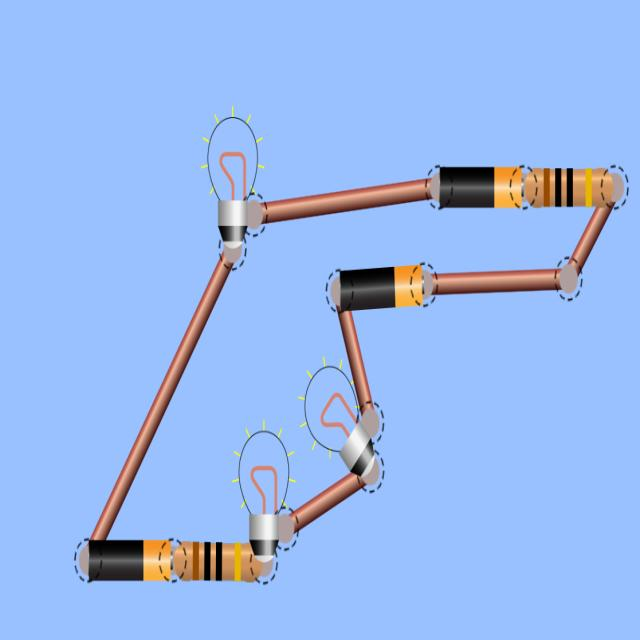Battery: (340, 266, 422, 311), (438, 168, 521, 207), (89, 541, 171, 580)
Light Bulb: (301, 365, 374, 477), (239, 431, 290, 562), (208, 116, 259, 245)
Resistor: (171, 543, 264, 582), (530, 170, 614, 207)
Wire: (91, 255, 231, 541), (261, 178, 431, 222), (290, 473, 365, 532), (338, 311, 374, 414), (432, 269, 560, 295), (570, 203, 613, 271)
